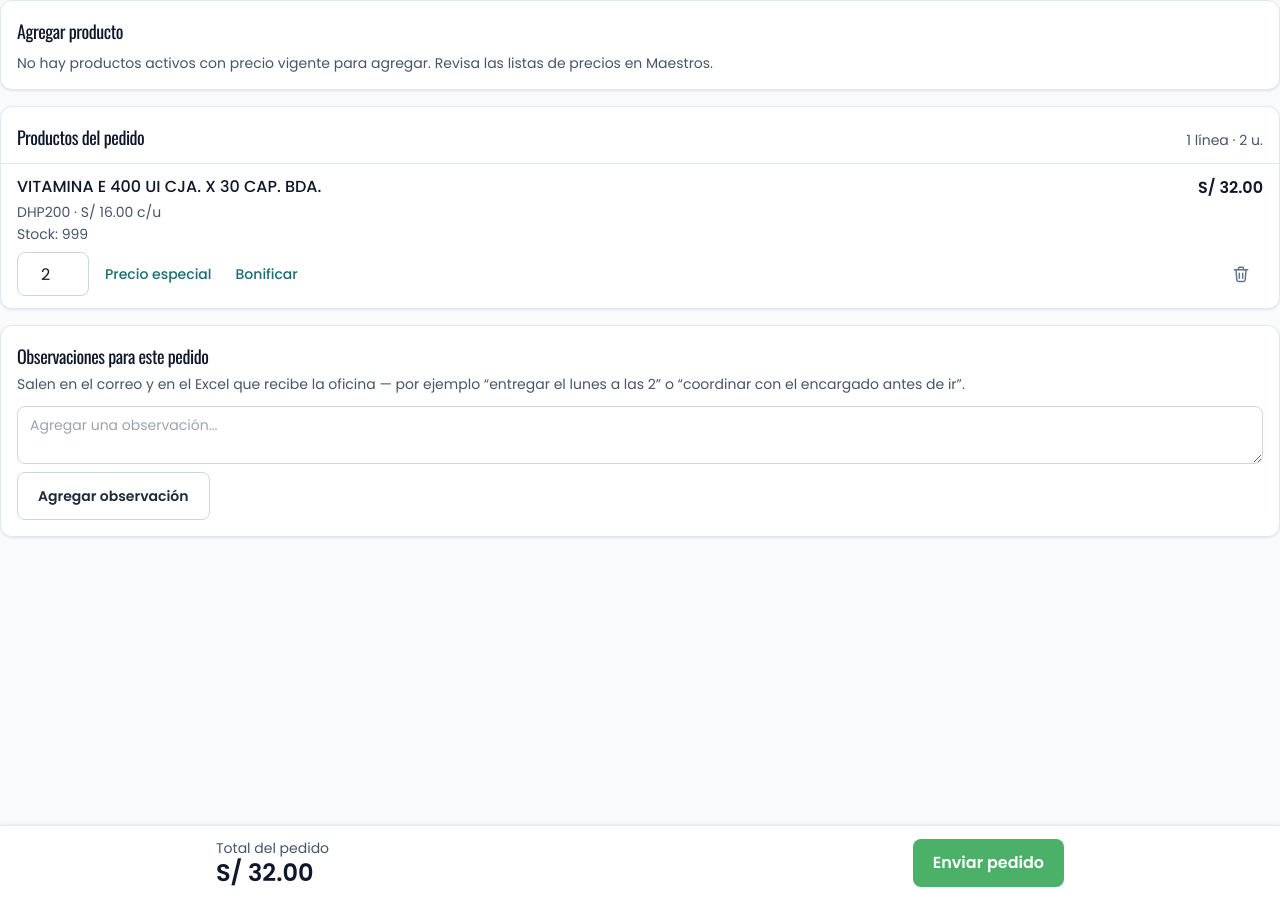
Test: cuando el envío del pedido se frena › muestra el motivo que manda el servidor, no un error genérico
Click the button "Enviar pedido".
click(988, 863)  # box x1=913 y1=839 x2=1064 y2=887
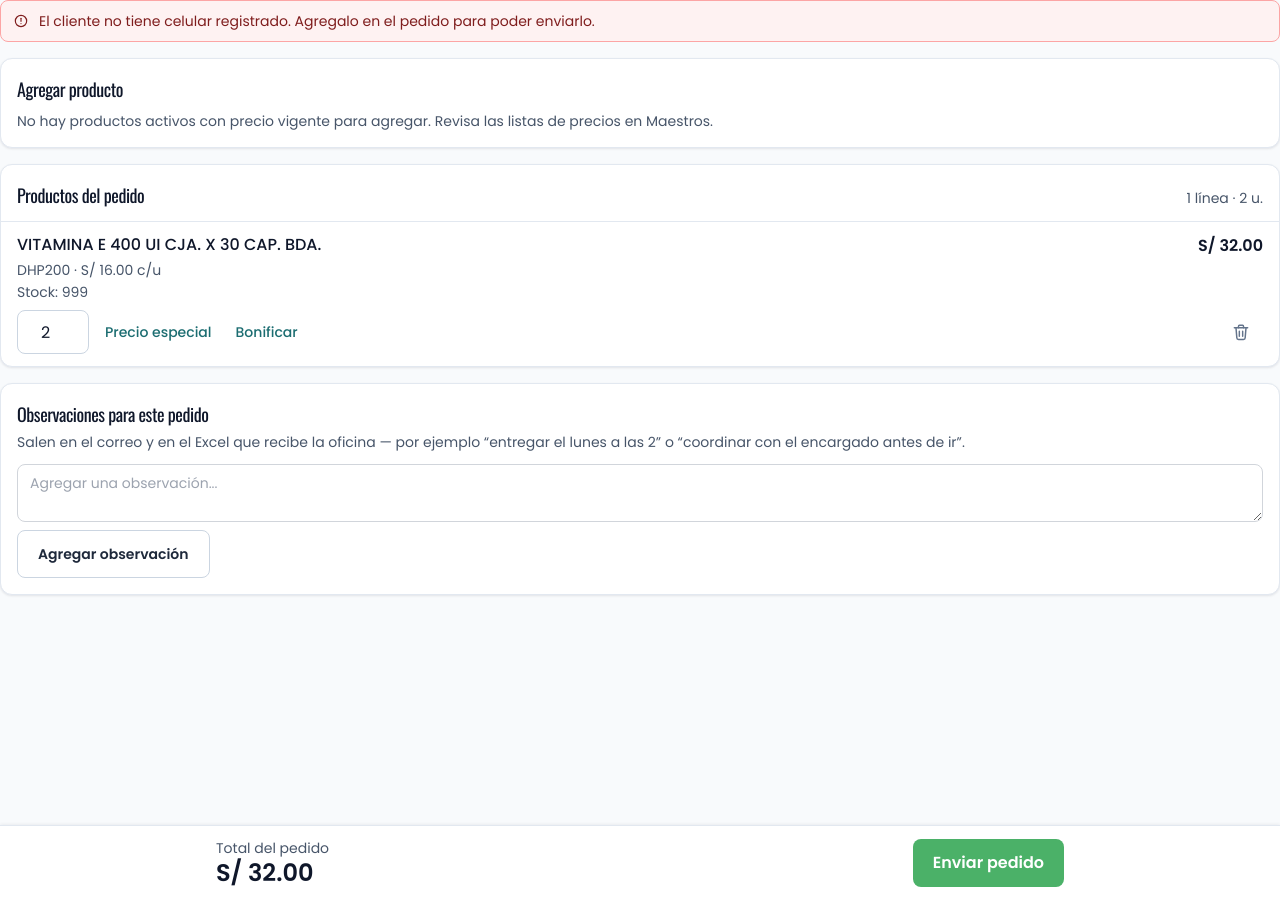
Now the text "no tiene celular registrado" is shown, box x1=39 y1=11 x2=595 y2=31
